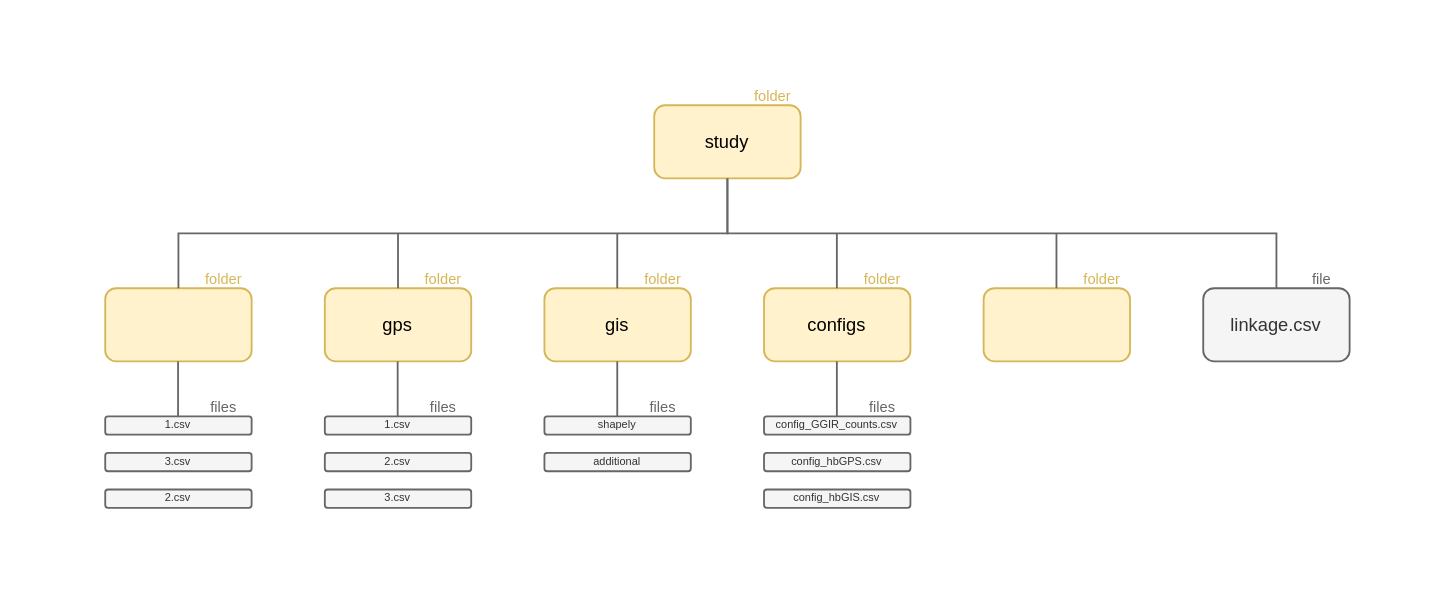
This 1453x611 diagram has some shape labels left out. The box of each missing label's shape, as (x1, y1, x2, y2) in pixels:
acl: (103, 286, 252, 361)
output: (982, 286, 1130, 361)
